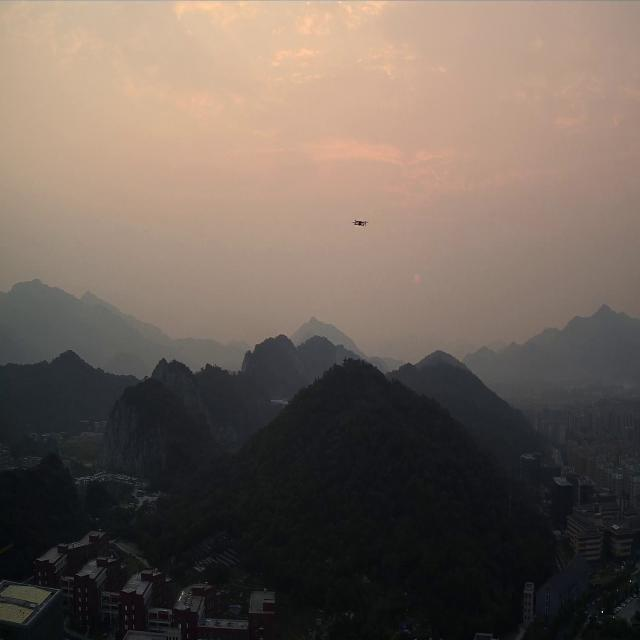drone: (351, 219, 369, 227)
